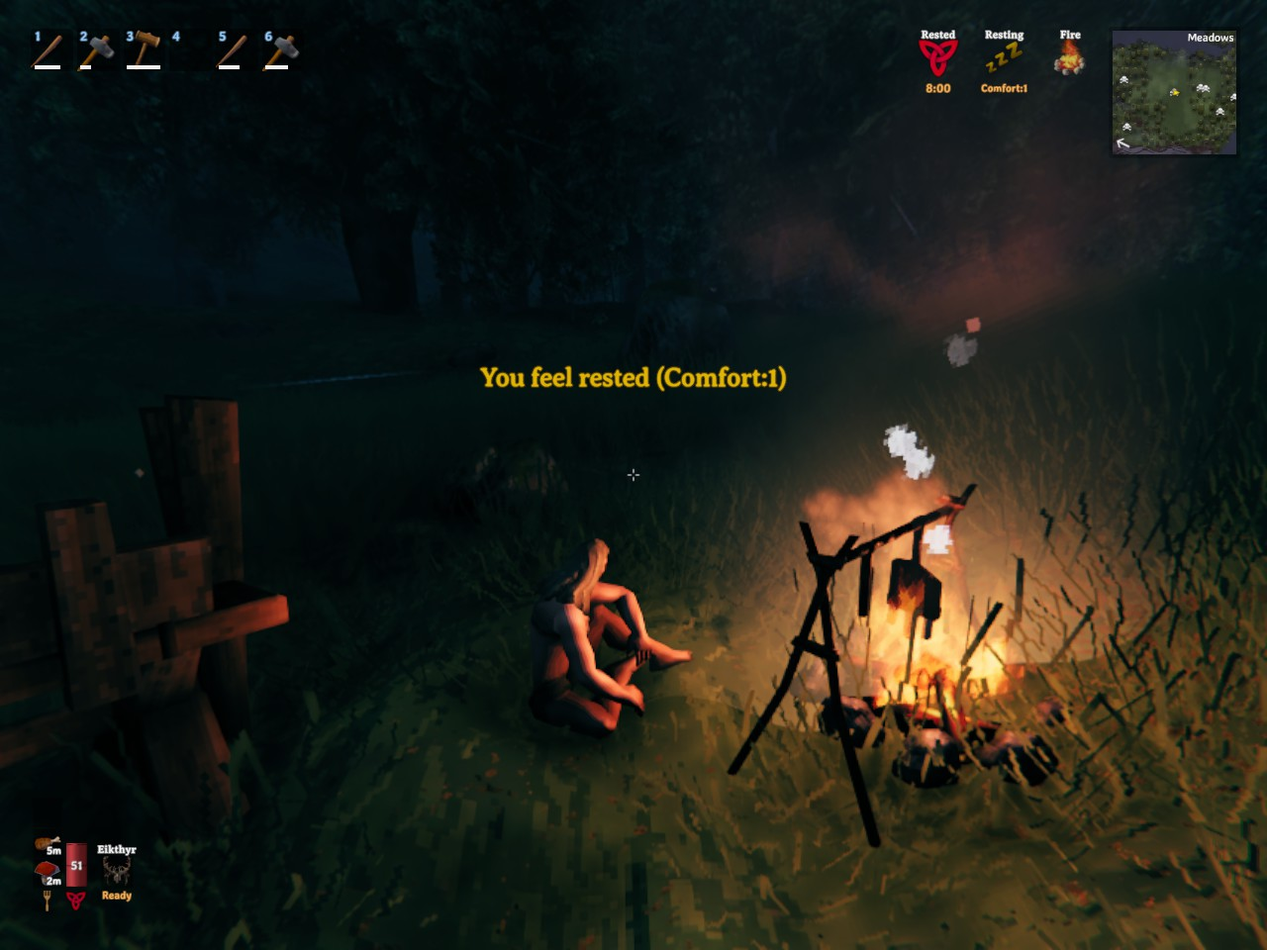Cook Station: (728, 484, 975, 775), (838, 725, 880, 847)
Fire: (856, 652, 1001, 756)
Food Indicator: (36, 797, 63, 891)
Health Bar: (63, 820, 90, 891)
Hotbar: (25, 21, 398, 78)
Status Indicator: (887, 25, 1110, 96)
